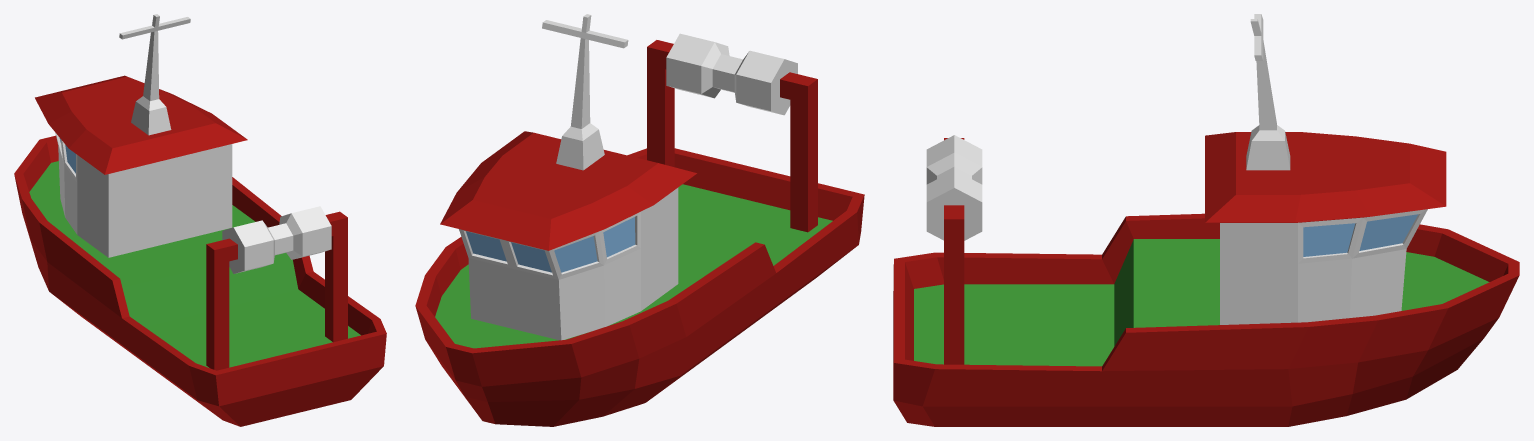
File: BoatRedMed.fbx
3 views of the same model, side by side, from view 1: azimuth 30°, elevation 25°; view 2: azimuth 150°, elevation 25°; view 3: azimuth 270°, elevation 25° (orthographic). The views are drawn at different scales.
Visible parts, largest first — view 1: BoatRedMed; view 2: BoatRedMed; view 3: BoatRedMed.
Boxes of the visible parts, left/top/right/bottom form: BoatRedMed: left=14, top=14, right=386, bottom=426; BoatRedMed: left=415, top=14, right=864, bottom=426; BoatRedMed: left=893, top=14, right=1519, bottom=426.
Size of the model in its own units: 200 by 295 by 454.
